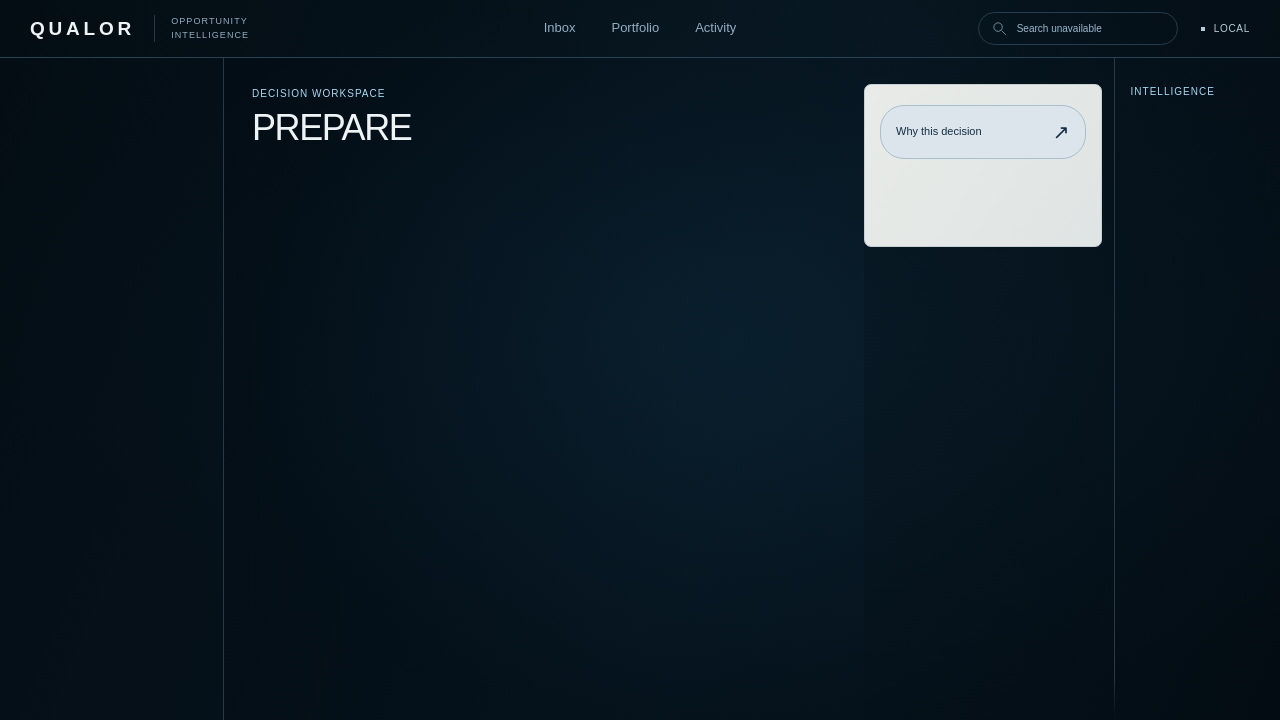
Test: keeps the existing truthful proof context when no selected subject is available
Click the button "Why this decision ↗": point(983, 132) [880,105,1086,159]
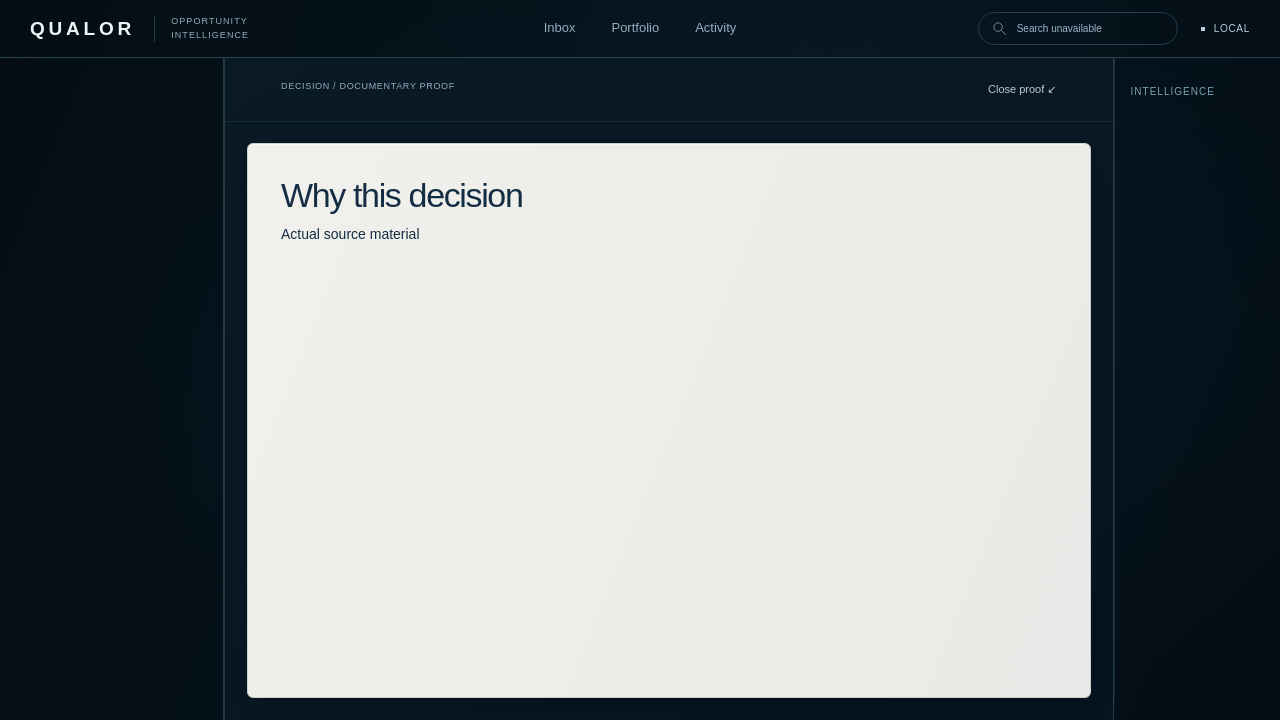
Check: the element with class "evidence-plane-heading" shows "Decision / documentary proof", box [281,81,455,91]
Check: the button "Close proof ↙" is shown, box [988,73,1056,107]
